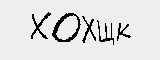З: (54, 10, 73, 30)
Р: (36, 14, 53, 32)
Т: (76, 10, 99, 27)
Х: (119, 12, 142, 35)
Э: (97, 7, 122, 30)
Ғ: (19, 13, 37, 33)
